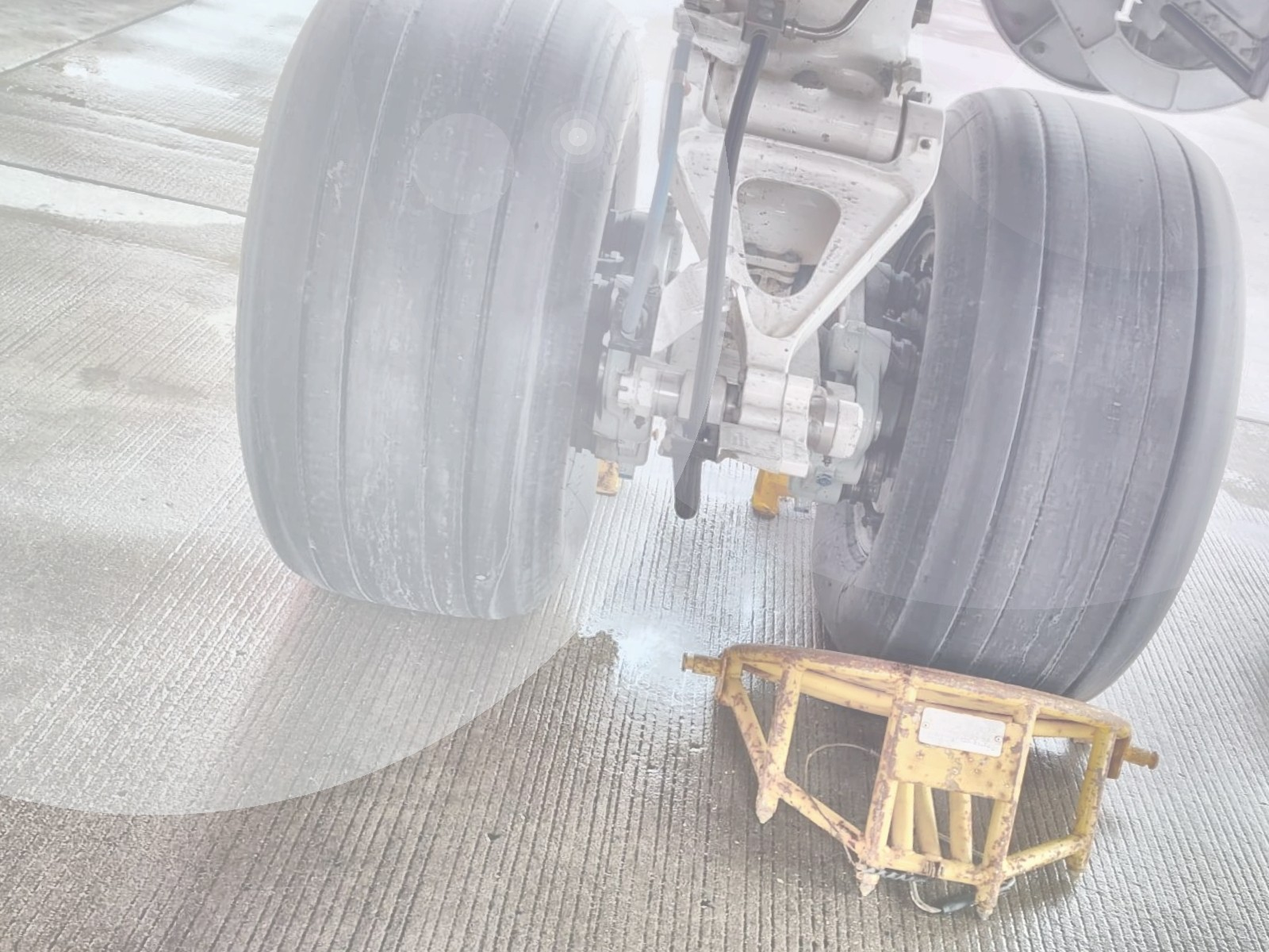chock: (633, 616, 1178, 952)
wheel: (179, 0, 690, 653), (794, 48, 1269, 709)
